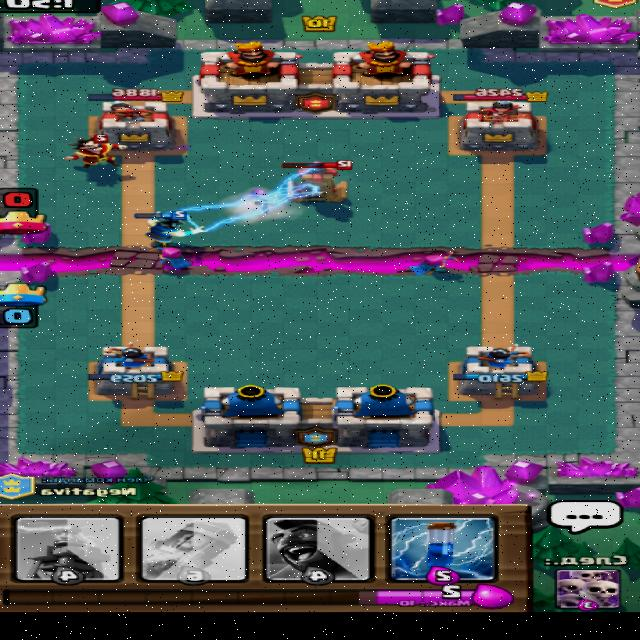Enemy-ElectroWizard: (65, 133, 130, 168)
Enemy-Tesla: (278, 158, 356, 204)
Player-Archer: (150, 242, 195, 271), (409, 250, 461, 275)
Player-ElectroWizard: (134, 208, 210, 246)
